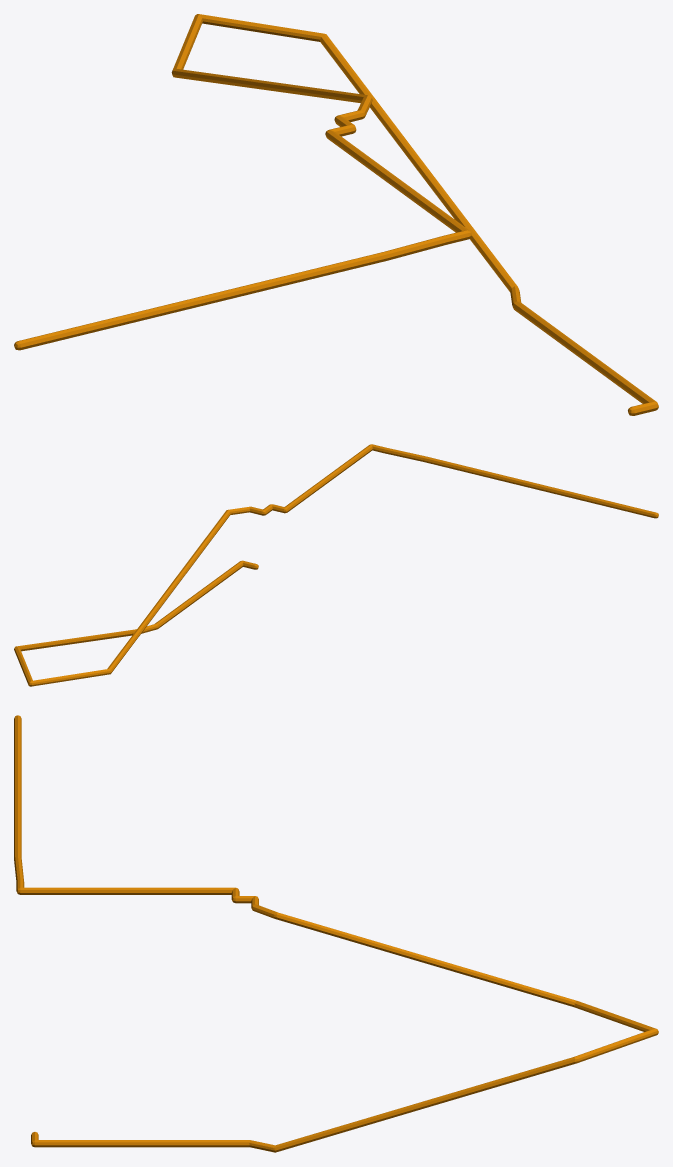
3 views of the same model, one above another, from view 1: azimuth 30°, elevation 25°; view 2: azimuth 150°, elevation 25°; view 3: azimuth 270°, elevation 25° (orthographic). The views are drawn at different scales.
Bounding box in the file's own units: 1548 × 520 × 1648.
